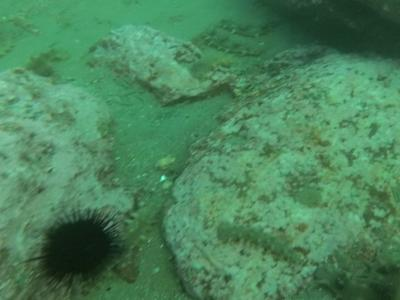holothurian: (123, 174, 174, 284), (215, 220, 305, 271), (314, 240, 394, 297), (204, 27, 272, 59), (223, 17, 276, 35)
urchin: (20, 203, 123, 296)
